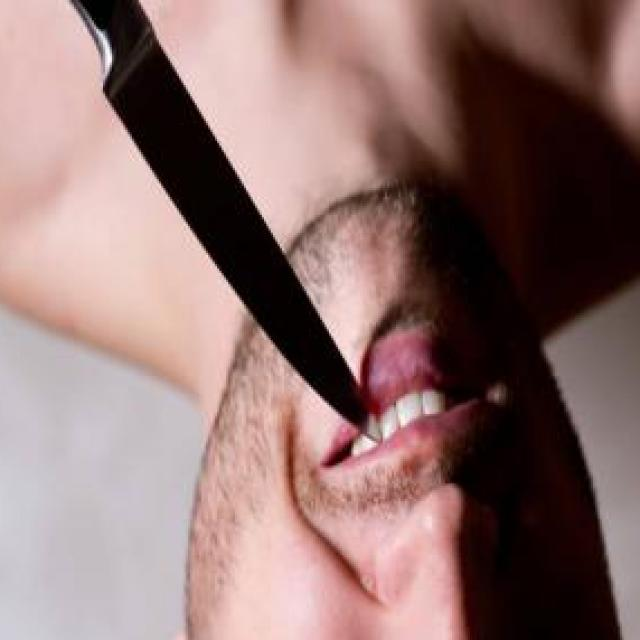knife: (52, 0, 385, 446)
